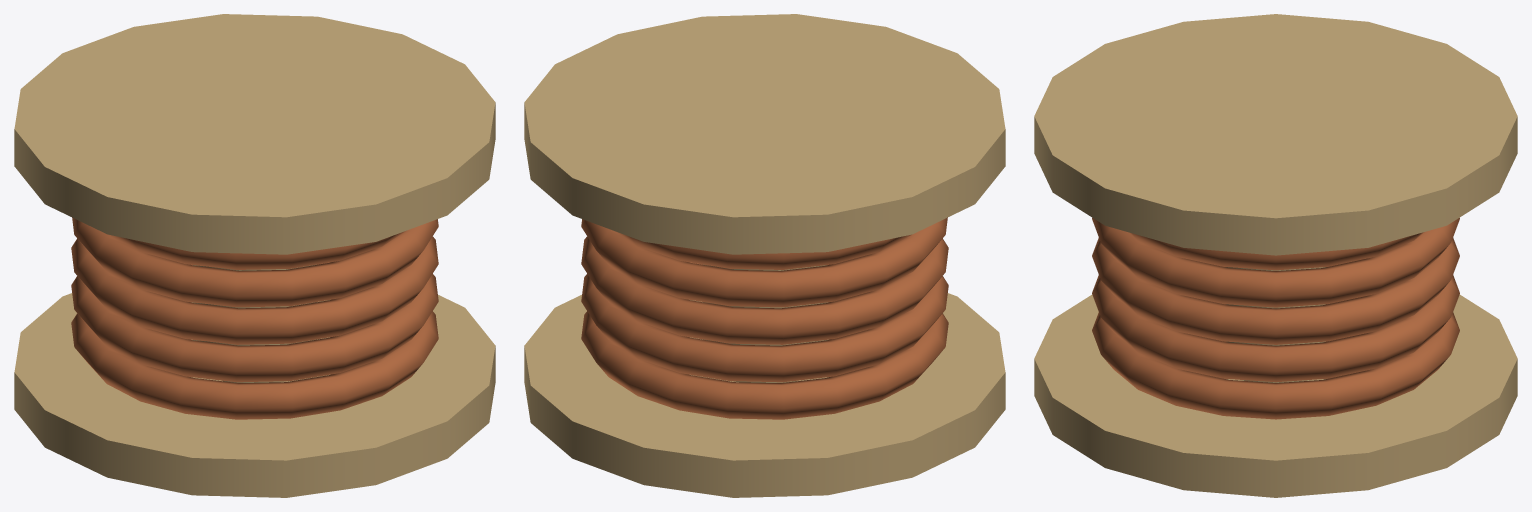
File: wire_spool.glb
3 views of the same model, side by side, from view 1: azimuth 30°, elevation 25°; view 2: azimuth 150°, elevation 25°; view 3: azimuth 270°, elevation 25° (orthographic).
Visible parts, largest first — view 1: wire_spool; view 2: wire_spool; view 3: wire_spool.
Boxes of the visible parts, box(x1,y1,x2,y2) form: wire_spool: box(14, 14, 495, 497); wire_spool: box(524, 14, 1005, 497); wire_spool: box(1034, 14, 1517, 497).
Bounding box in the file's own units: 0.094 × 0.06 × 0.094.
